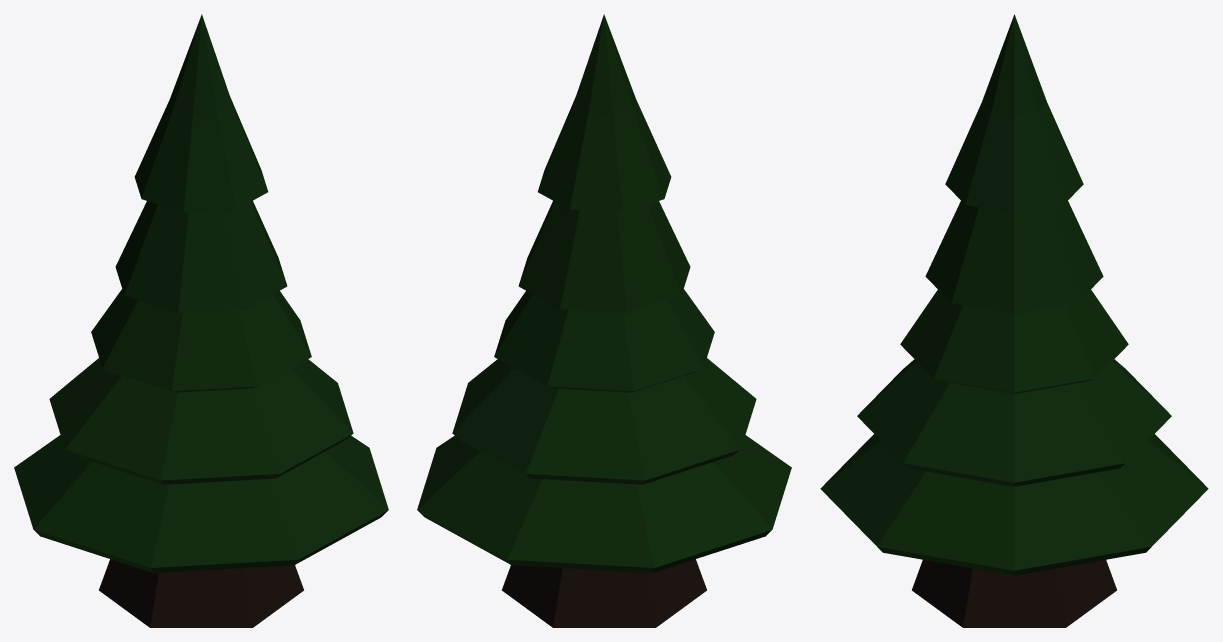
File: treetest.gltf
The picture shows the model from 3 angles, left to right: view 1: azimuth 30°, elevation 25°; view 2: azimuth 150°, elevation 25°; view 3: azimuth 270°, elevation 25°; orthographic projection.
Visible parts, largest first — view 1: Cylinder, Cylinder.001; view 2: Cylinder, Cylinder.001; view 3: Cylinder, Cylinder.001.
Boxes of the visible parts, left/top/right/bottom form: Cylinder: left=14, top=14, right=388, bottom=572; Cylinder.001: left=99, top=559, right=303, bottom=627; Cylinder: left=417, top=14, right=791, bottom=572; Cylinder.001: left=502, top=559, right=706, bottom=627; Cylinder: left=820, top=14, right=1208, bottom=575; Cylinder.001: left=912, top=560, right=1116, bottom=627.
Bounding box in the file's own units: 3.78 × 6.19 × 3.78.
